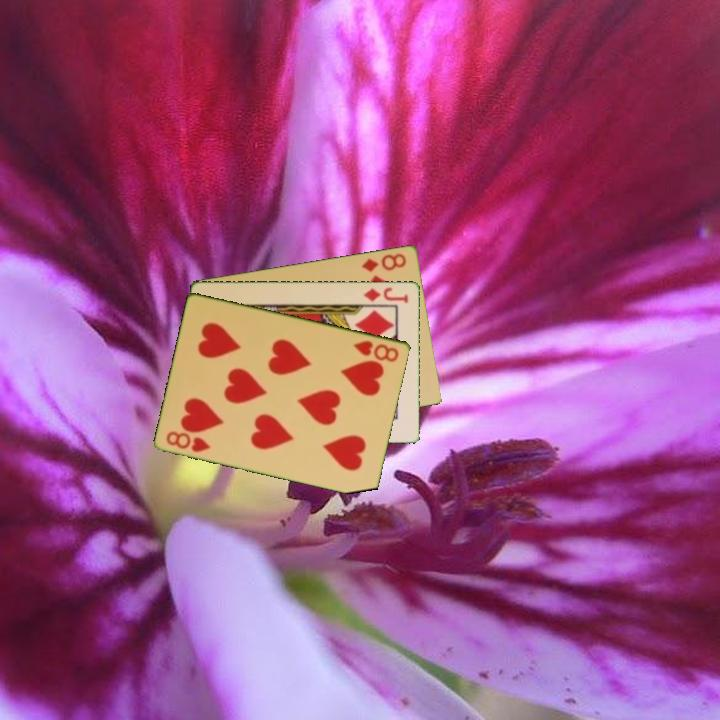8d: (358, 249, 409, 274)
8h: (350, 337, 402, 365), (163, 427, 214, 455)
Jd: (360, 284, 411, 305)
